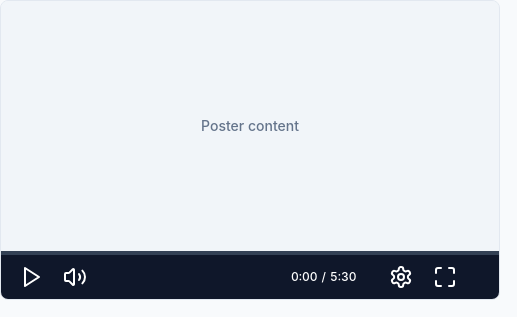
Test: VideoPlayer › updates elapsed time through its accessible progress slider
Step 1. Set the slider named "Video progress" to "248" → (250, 275), box [1,251,499,299]
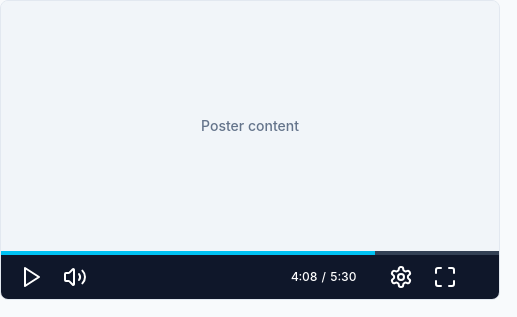
Check: the element named "4:08 elapsed of 5:30" is shown, box [291,269,357,284]
